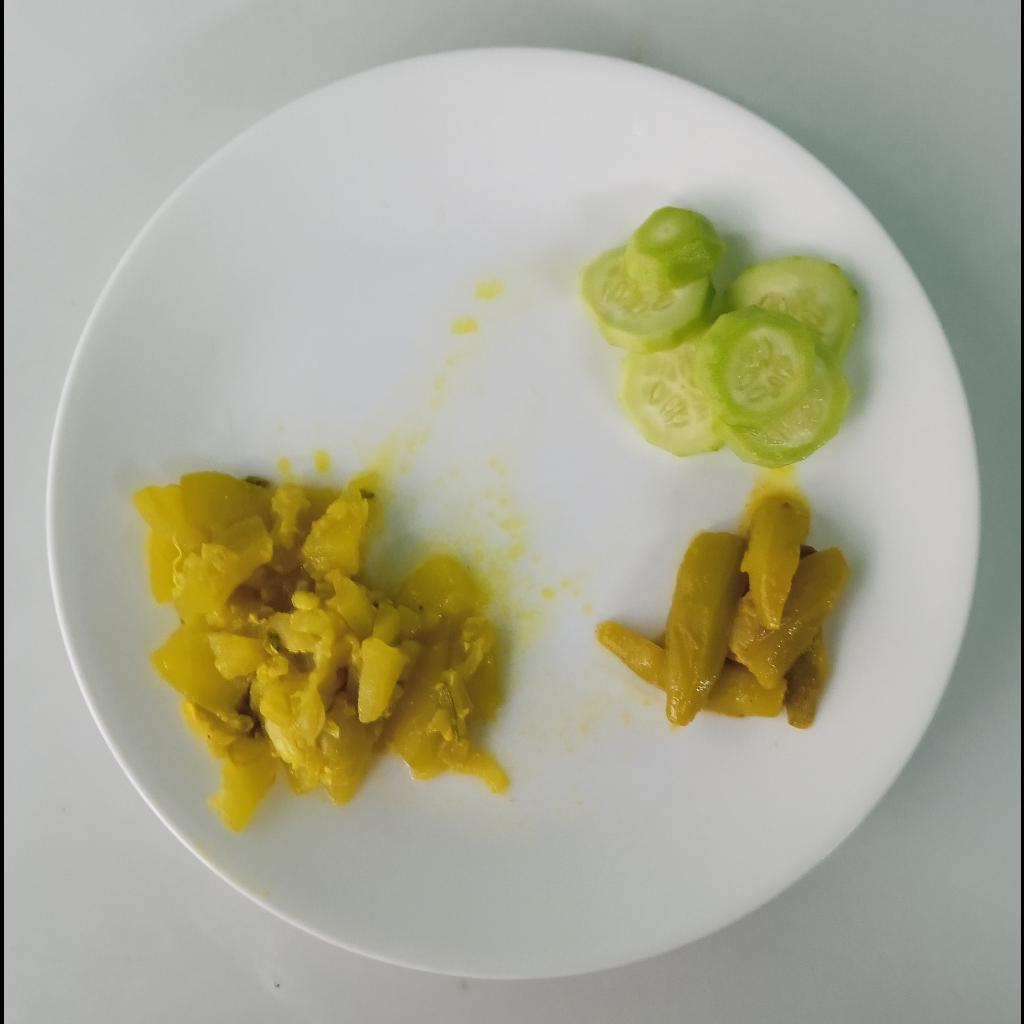cucumber: (578, 206, 860, 470)
dundol: (134, 468, 508, 839)
potol: (592, 494, 852, 733)
